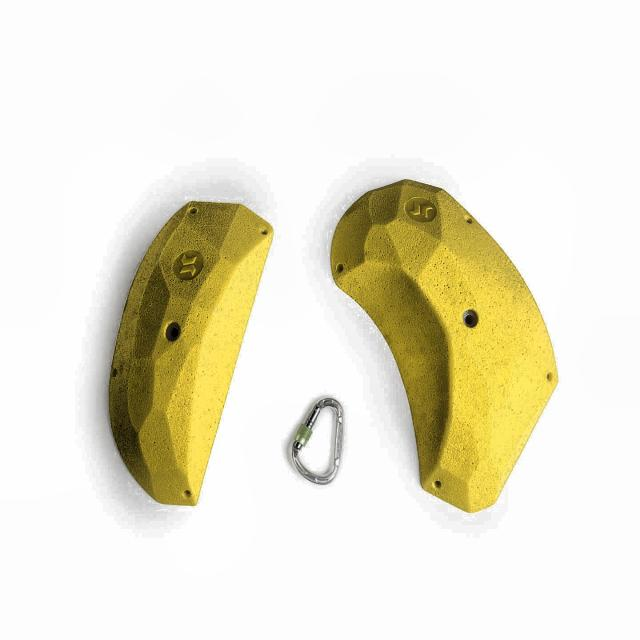Hold: (312, 159, 573, 525), (104, 196, 266, 511)
